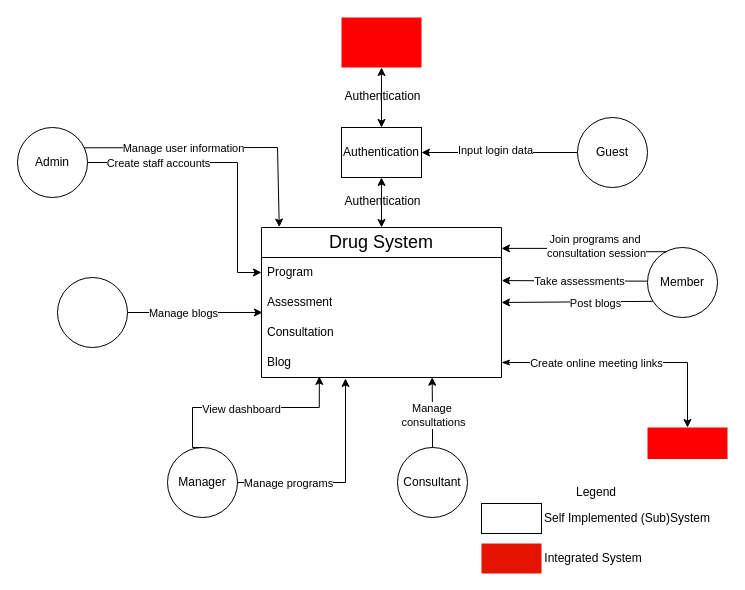
This 745x590 diagram has some shape labels left out. Here are the shapes that lost their labels. From the top down, the box of each, then its label:
(341, 17, 421, 67): Google Authentication
(56, 276, 128, 348): Staff
(647, 427, 727, 458): Google Meet
